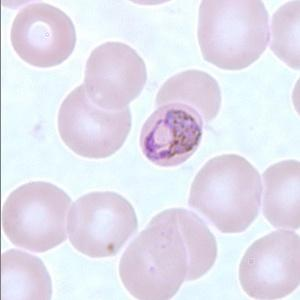Infected: (139, 102, 203, 165)
Uninfected: (118, 215, 189, 300), (190, 153, 264, 233), (57, 81, 132, 158), (145, 206, 218, 279), (3, 181, 76, 252), (197, 0, 271, 69), (68, 191, 138, 258), (237, 230, 300, 300), (9, 2, 77, 66), (157, 68, 223, 131), (84, 41, 146, 107)
